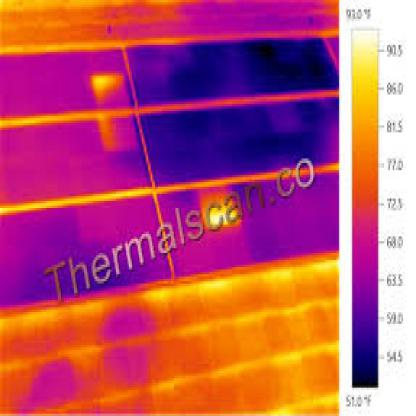Defects: (91, 73, 132, 102), (203, 201, 243, 224)
